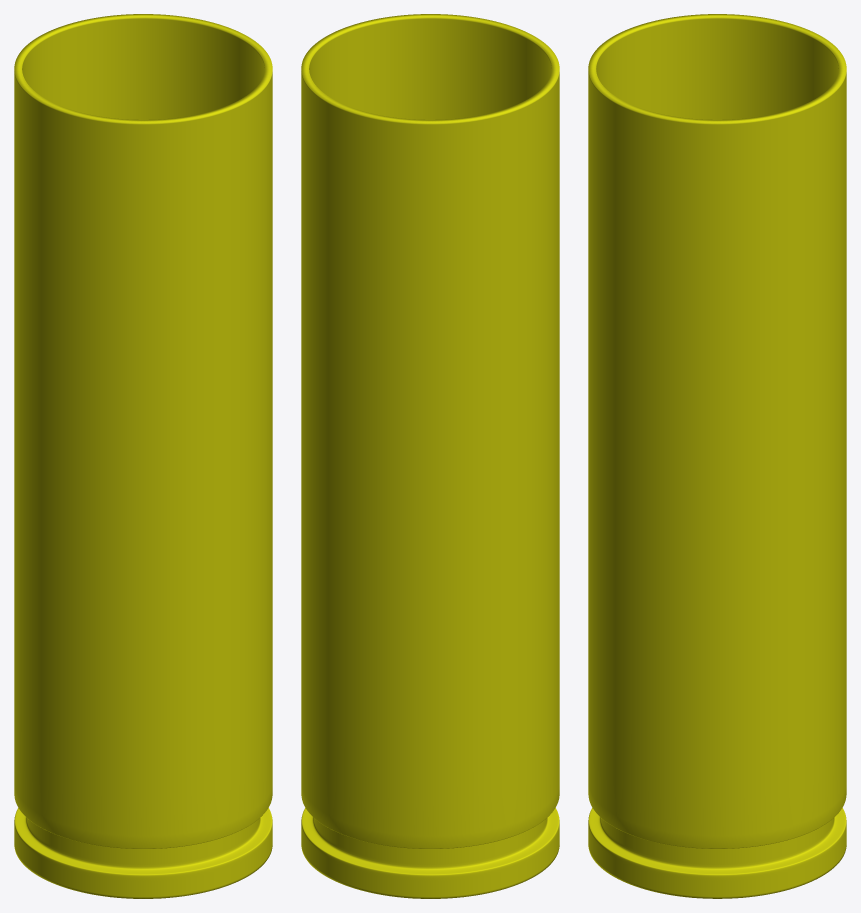
The model's file is Shell.fbx.
The picture shows the model from 3 angles, left to right: view 1: azimuth 30°, elevation 25°; view 2: azimuth 150°, elevation 25°; view 3: azimuth 270°, elevation 25°; orthographic projection.
Parts seen in each view (by area): view 1: Cylinder.001; view 2: Cylinder.001; view 3: Cylinder.001.
Part boxes in pixels (<box>): Cylinder.001: <box>14,14,272,898</box>; Cylinder.001: <box>301,14,559,898</box>; Cylinder.001: <box>588,14,846,898</box>.
Bounding box in the file's own units: 398 × 1322 × 398.
